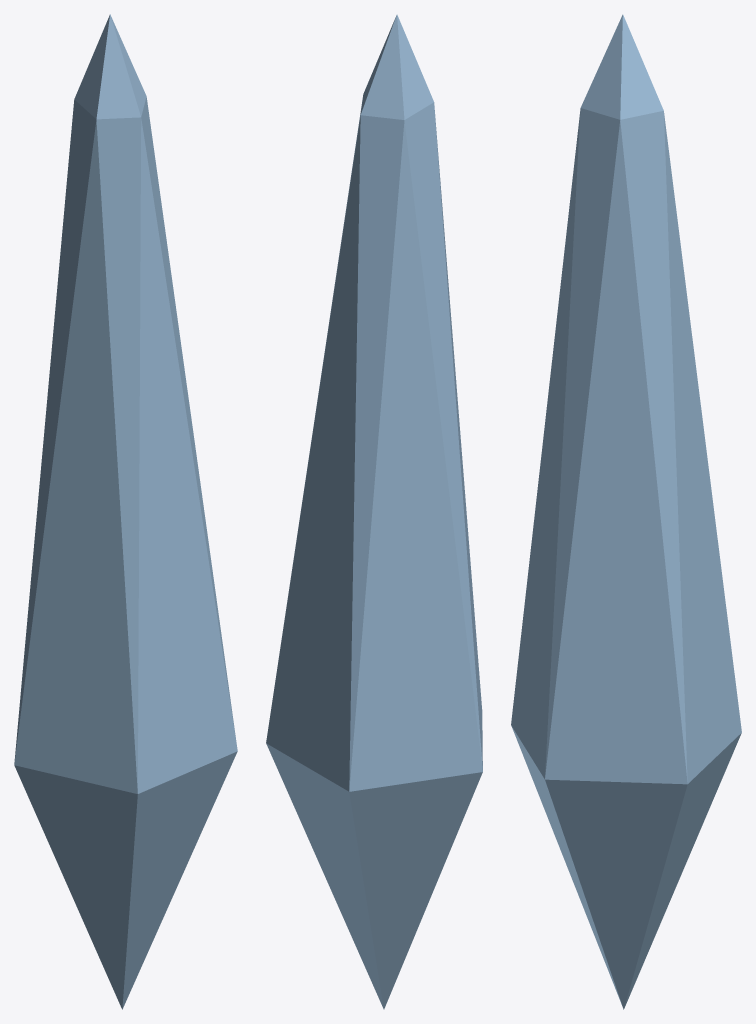
Rendered from raindot.glb.
3 renders of one model, left to right at view 1: azimuth 30°, elevation 25°; view 2: azimuth 150°, elevation 25°; view 3: azimuth 270°, elevation 25°, orthographic.
Visible parts, largest first — view 1: Icosphere; view 2: Icosphere; view 3: Icosphere.
Part boxes in pixels (bbox=[...]): Icosphere: bbox=[14, 14, 237, 1009]; Icosphere: bbox=[266, 14, 482, 1009]; Icosphere: bbox=[511, 14, 741, 1009].
Bounding box in the file's own units: 0.4082 × 2.06 × 0.4355.
